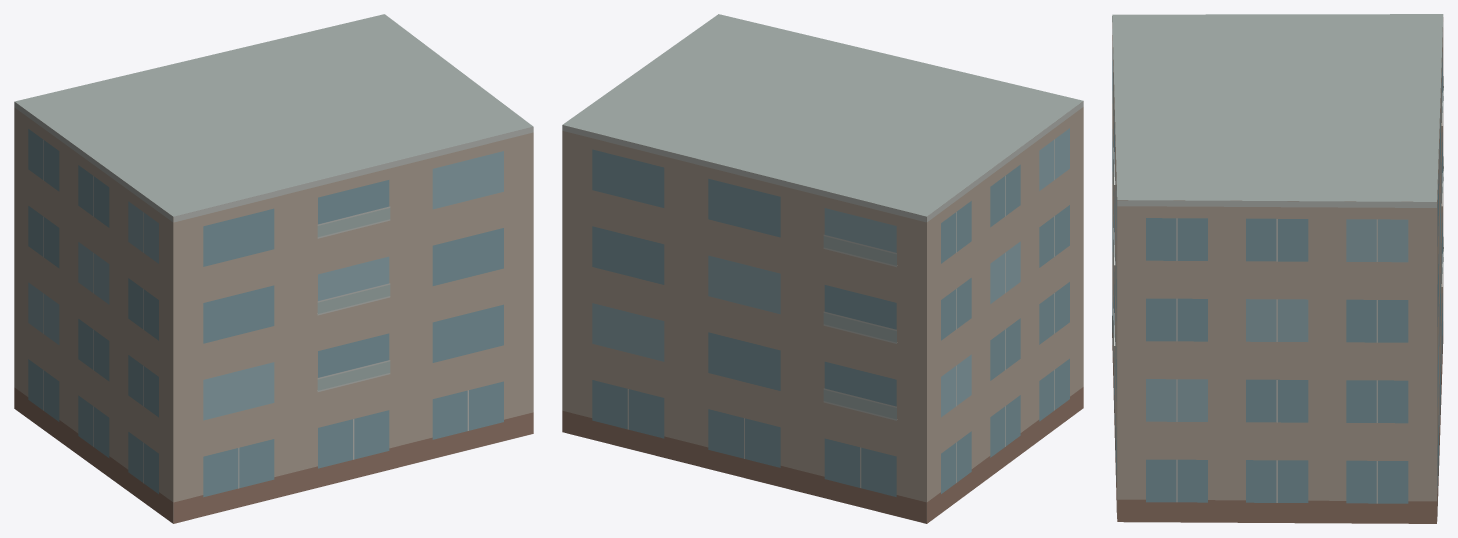
The model's file is survey-upis-32745605.glb.
The picture shows the model from 3 angles, left to right: view 1: azimuth 30°, elevation 25°; view 2: azimuth 150°, elevation 25°; view 3: azimuth 270°, elevation 25°; orthographic projection. The views are drawn at different scales.
Parts seen in each view (by area): view 1: survey-upis-32745605.tmp; view 2: survey-upis-32745605.tmp; view 3: survey-upis-32745605.tmp.
Boxes of the visible parts, <box> form: survey-upis-32745605.tmp: <box>14,14,533,523</box>; survey-upis-32745605.tmp: <box>562,14,1083,523</box>; survey-upis-32745605.tmp: <box>1112,14,1443,523</box>.
Bounding box in the file's own units: 16.03 × 12.8 × 11.95.
